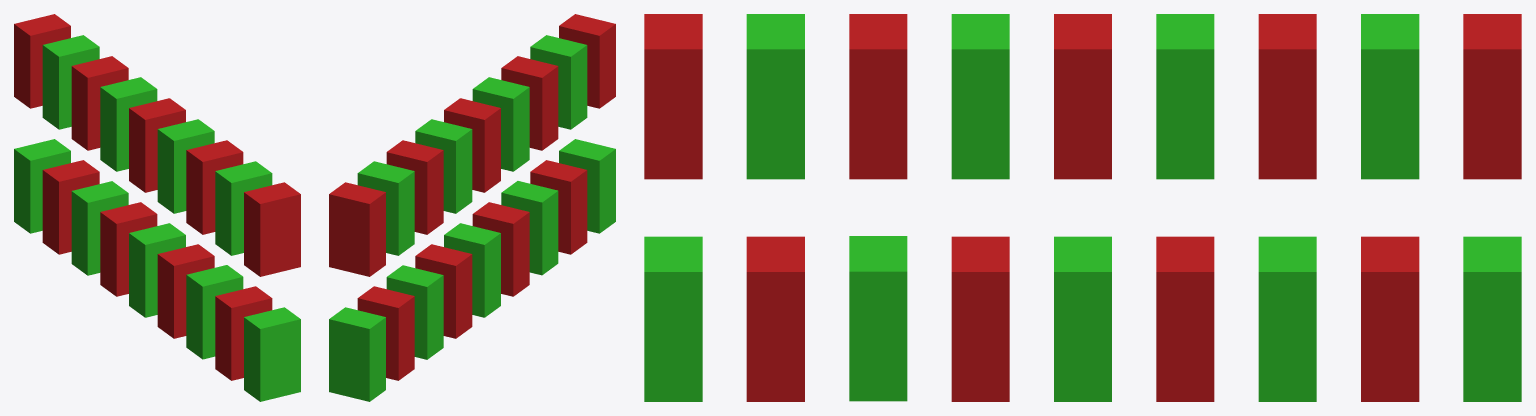
The model's file is ares_ea_undulator.glb.
3 renders of one model, left to right at view 1: azimuth 30°, elevation 25°; view 2: azimuth 150°, elevation 25°; view 3: azimuth 270°, elevation 25°, orthographic. The views are drawn at different scales.
Parts seen in each view (by area): view 1: Cube.008; view 2: Cube.008; view 3: Cube.008.
Boxes of the visible parts, x1,y1,x2,y2 form: Cube.008: (14,14,300,401); Cube.008: (329,14,615,401); Cube.008: (644,14,1521,401).
Size of the model in its own units: 0.4091 by 1.9 by 4.28.
